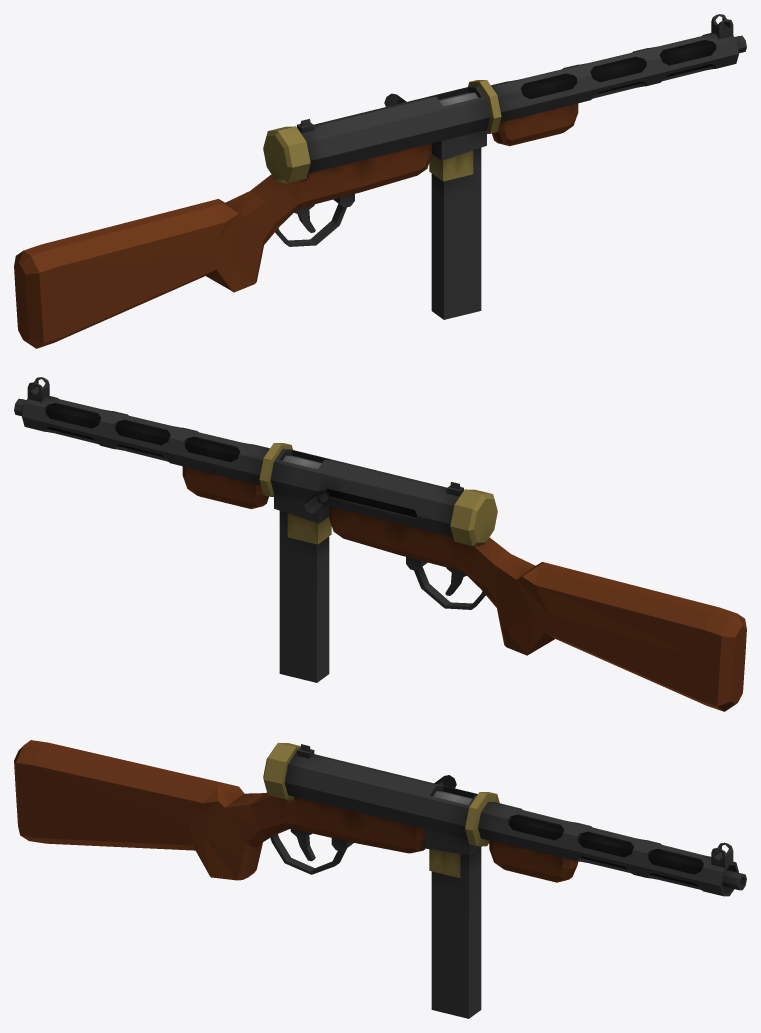
The model's file is v-ppsh.glb.
The picture shows the model from 3 angles, top to bottom: view 1: azimuth 30°, elevation 25°; view 2: azimuth 150°, elevation 25°; view 3: azimuth 330°, elevation 25°; orthographic projection.
Parts seen in each view (by area): view 1: body; view 2: body; view 3: body.
Part boxes in pixels (box(x1,y1,x2,y2)): body: box(14, 14, 746, 348); body: box(14, 377, 746, 711); body: box(14, 740, 746, 1018).
Bounding box in the file's own units: 0.5 × 0.1511 × 0.052.
